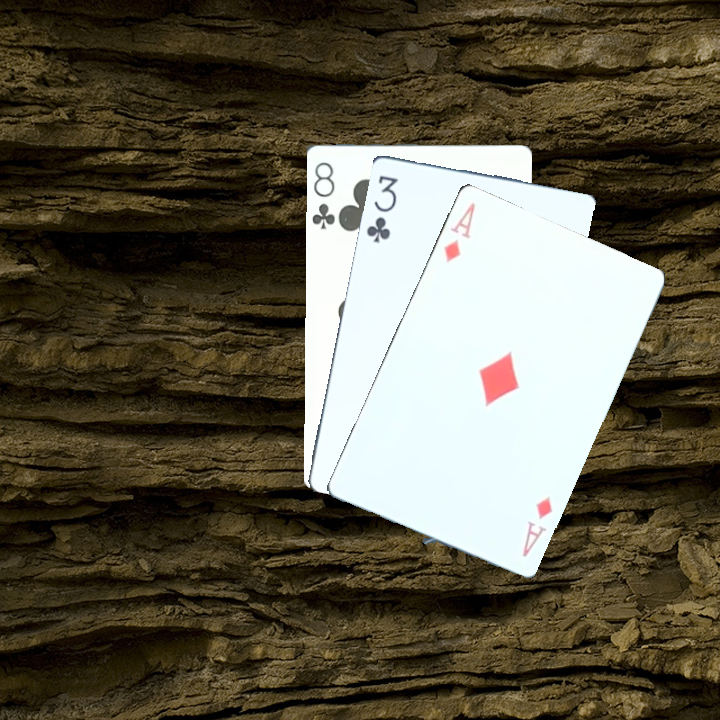3c: (362, 171, 401, 245)
8c: (309, 158, 338, 232)
Ad: (439, 199, 478, 265), (518, 494, 556, 560)
